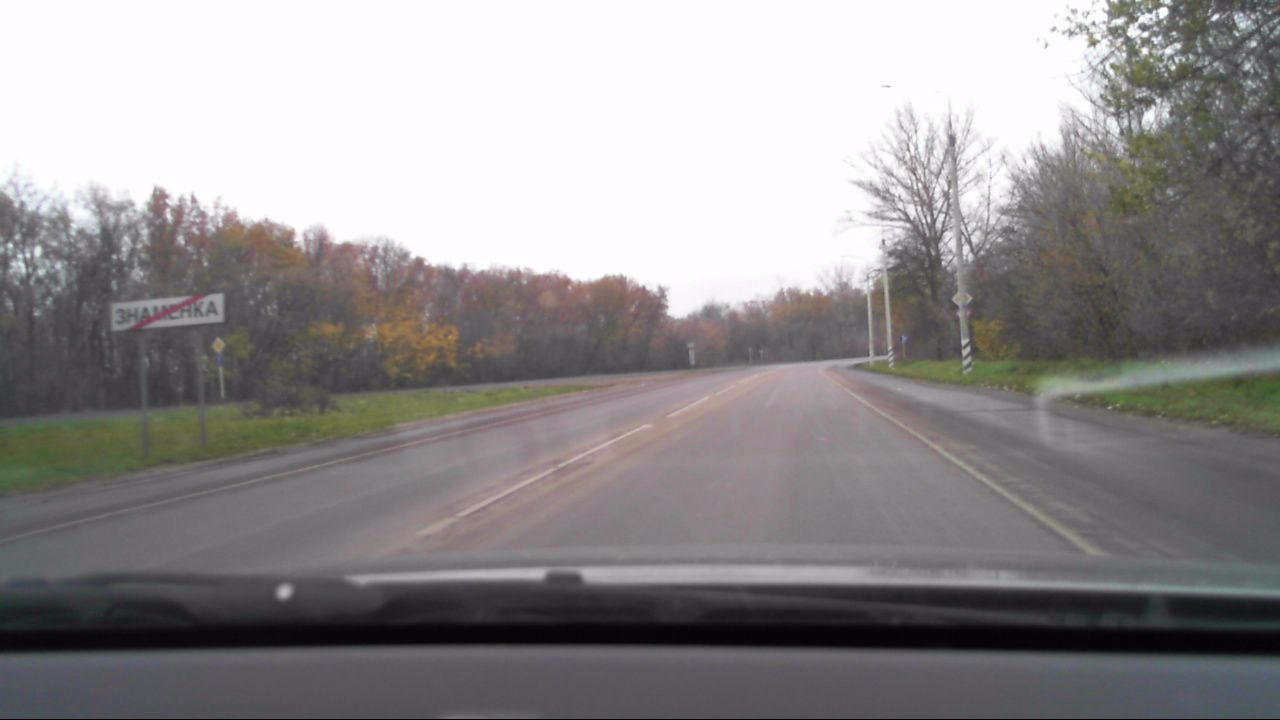main road: (951, 287, 972, 306)
